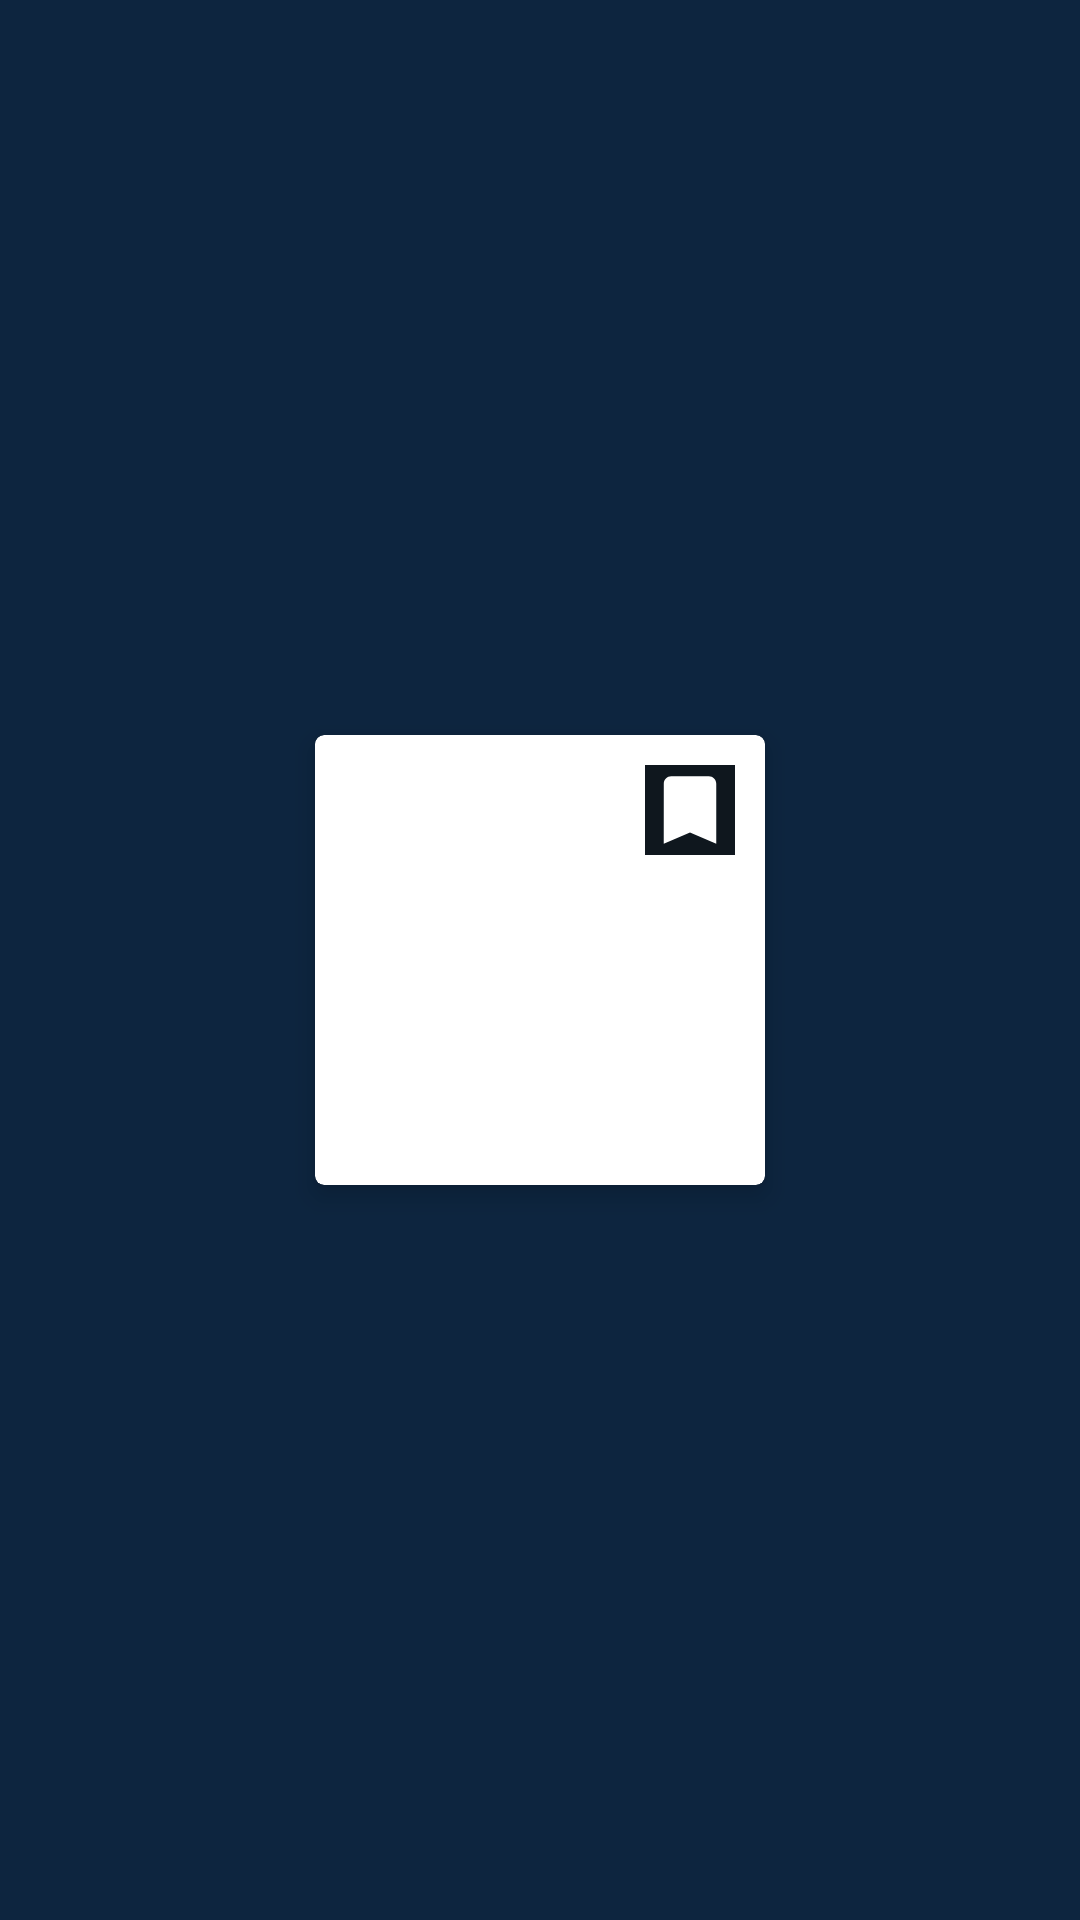

Icon bounding boxes for this 1080 x 1920 phone screenshot, format bbox(x1, y1, x2, y2):
bookmark: bbox(645, 765, 735, 855)
